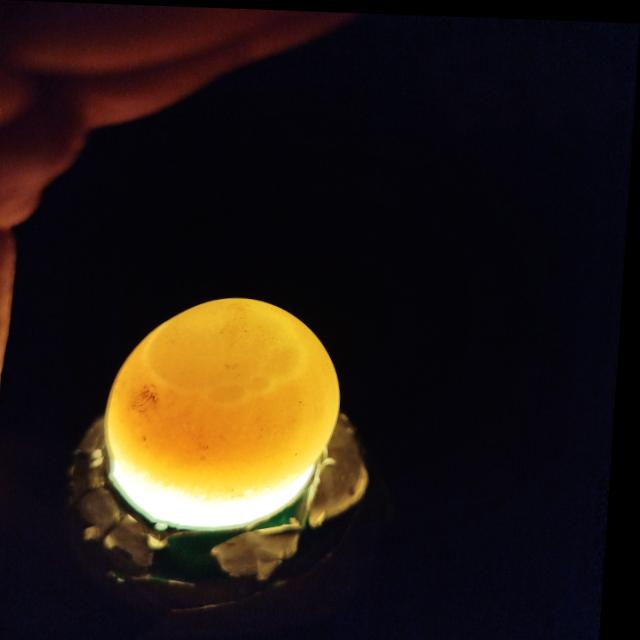Camara de Ar: (149, 297, 310, 404)
